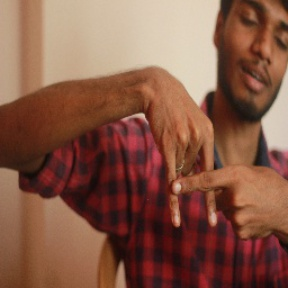H: (142, 127, 252, 245)
